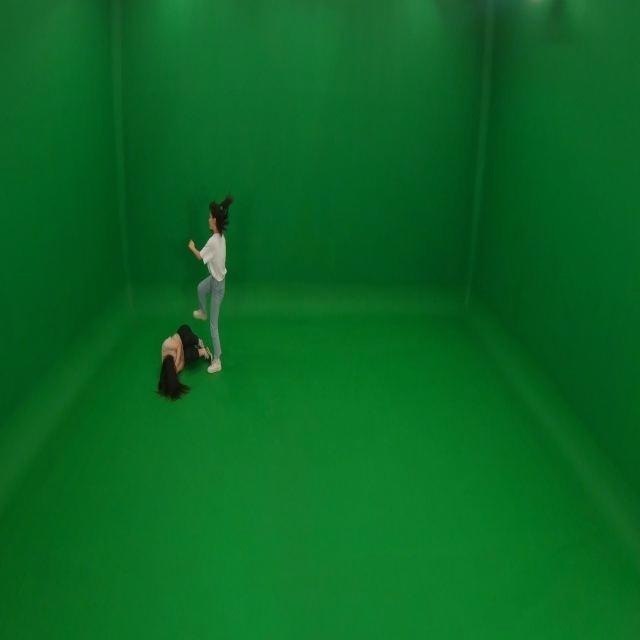fight: (146, 197, 230, 401)
